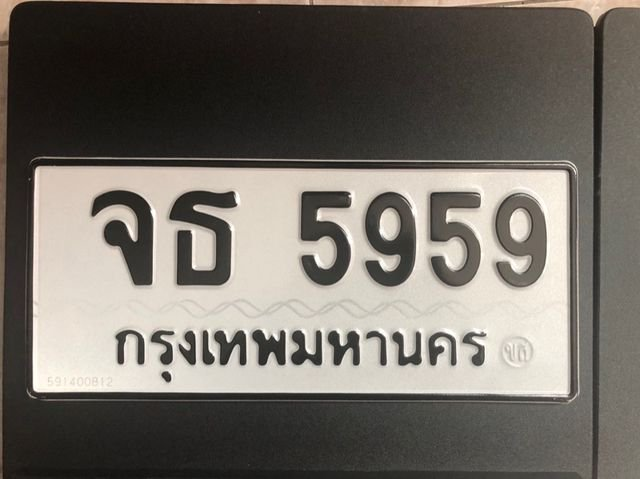Bangkok: (109, 305, 489, 394)
